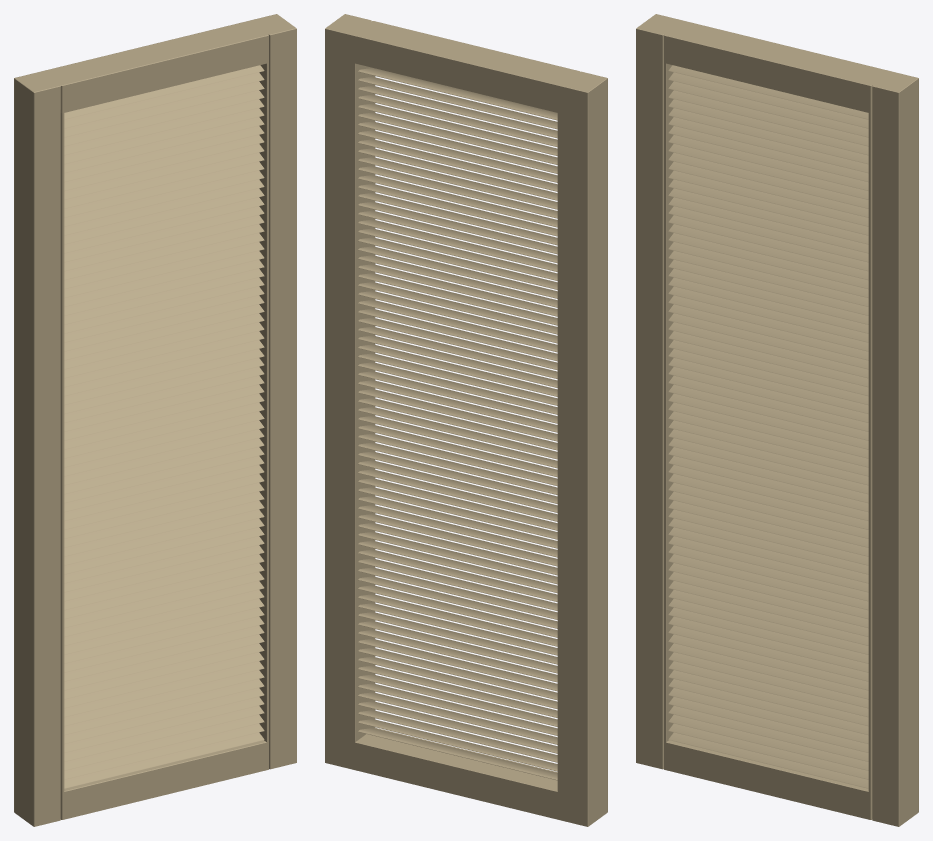
The model's file is armario3.fbx.
3 views of the same model, side by side, from view 1: azimuth 30°, elevation 25°; view 2: azimuth 150°, elevation 25°; view 3: azimuth 330°, elevation 25° (orthographic).
Visible parts, largest first — view 1: Strips, Frame; view 2: Strips, Frame; view 3: Strips, Frame.
Boxes of the visible parts, bbox=[...] form: Strips: bbox=[64, 65, 264, 788]; Frame: bbox=[14, 14, 296, 826]; Strips: bbox=[358, 68, 557, 780]; Frame: bbox=[325, 14, 607, 826]; Strips: bbox=[668, 65, 868, 788]; Frame: bbox=[636, 14, 918, 826].
Bounding box in the file's own units: 60 × 160 × 8.
